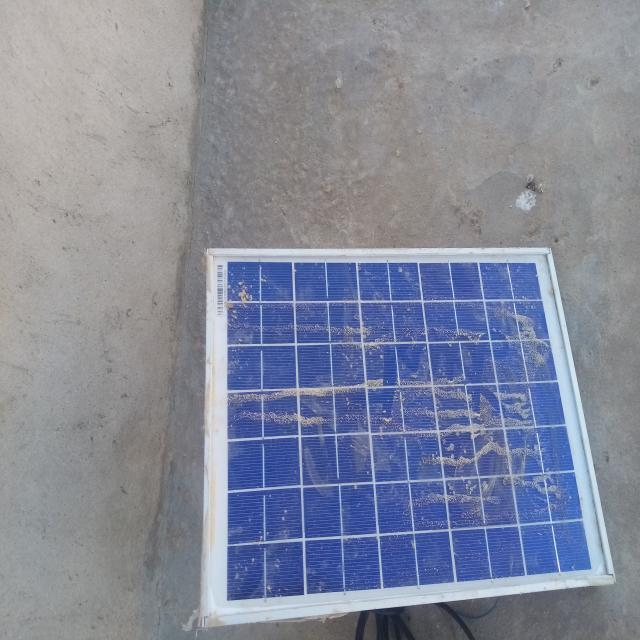faulty: (206, 250, 615, 617)
